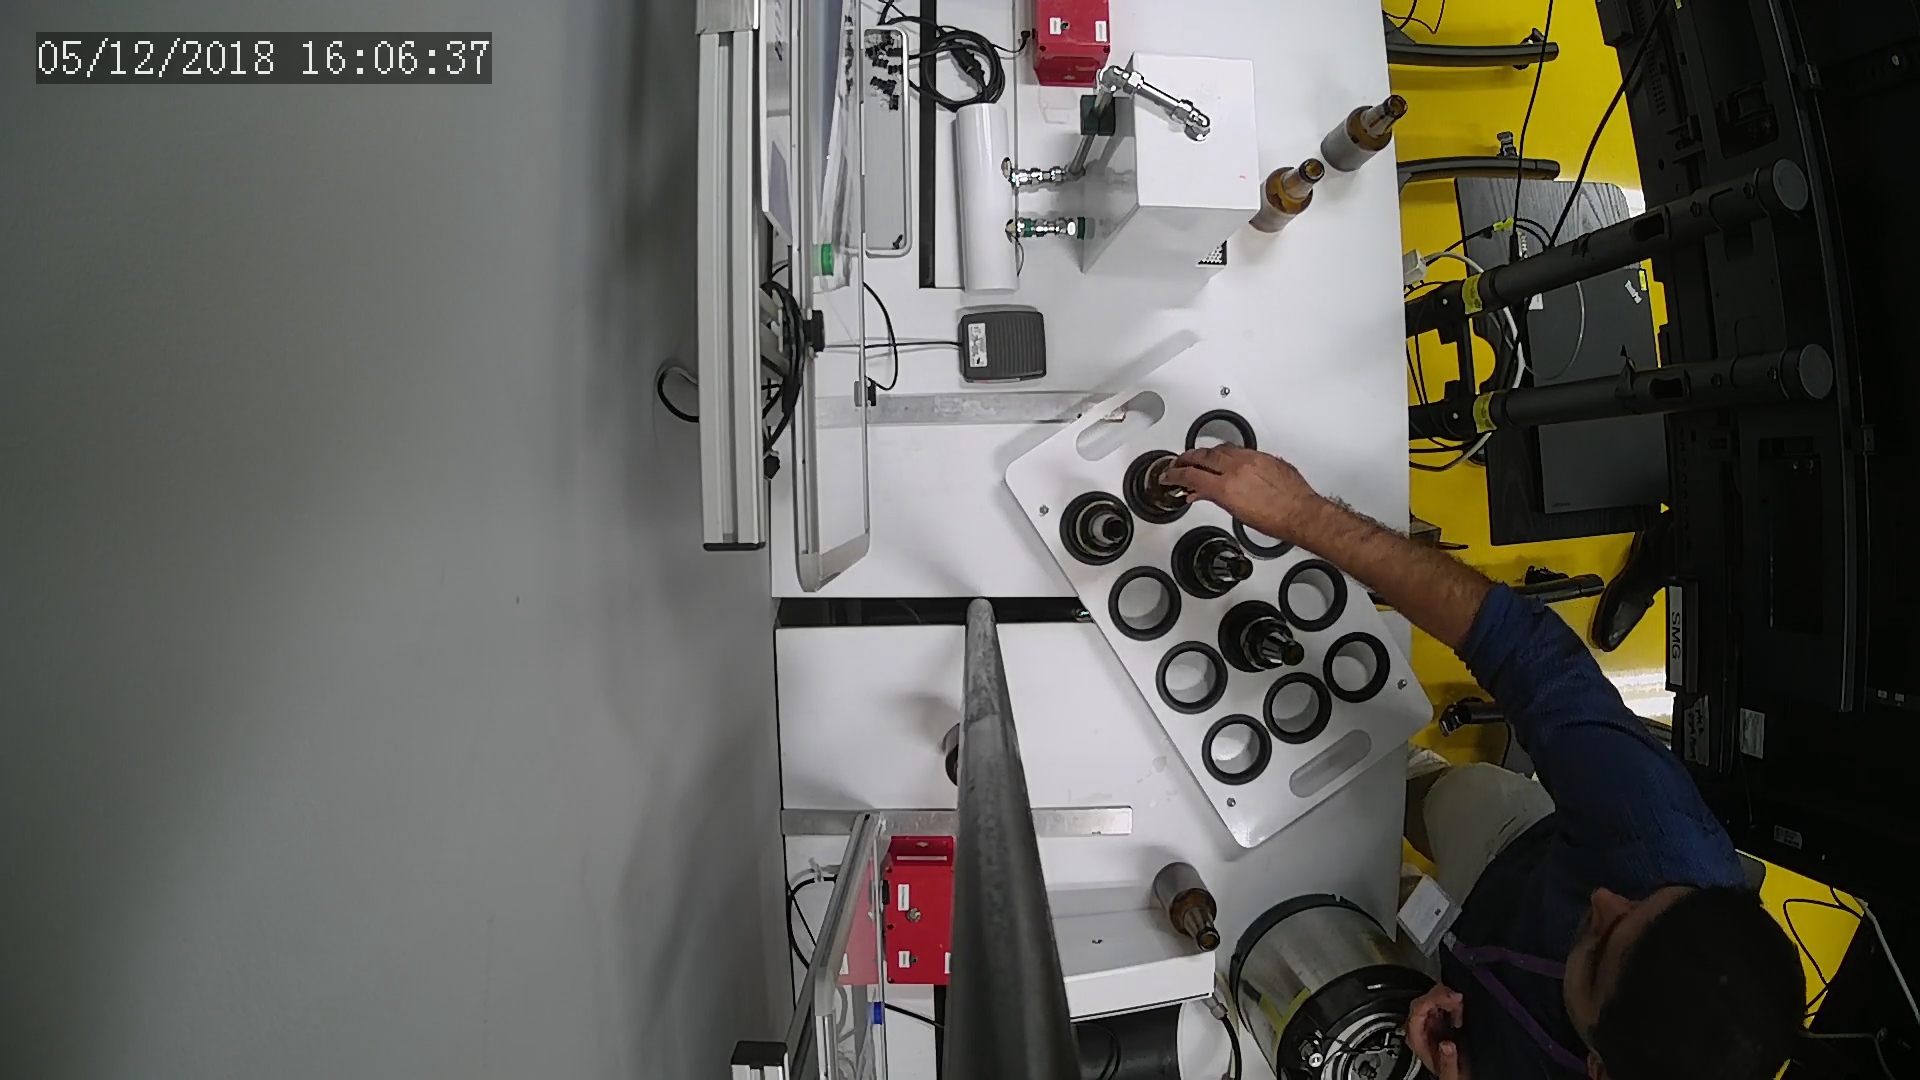filled_bottle: (1222, 599, 1309, 676), (1179, 527, 1253, 595), (1064, 495, 1133, 564)
trolley: (1004, 338, 1435, 855)
unfilled_bottle: (1320, 90, 1410, 171), (1158, 861, 1224, 955), (1249, 157, 1324, 236)
